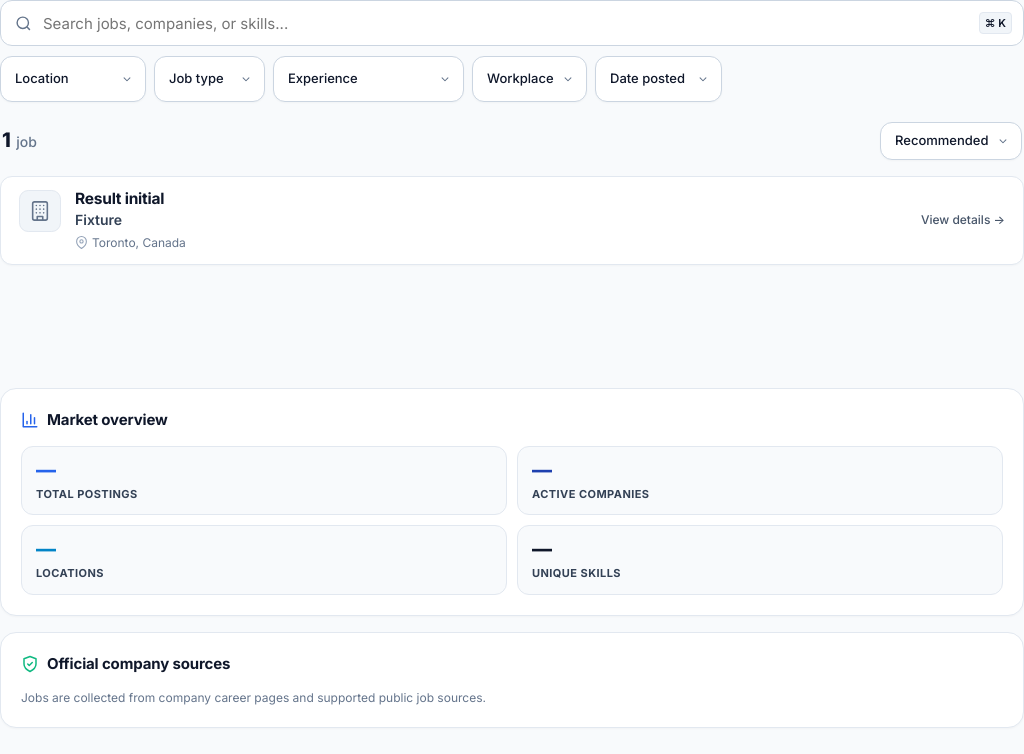
Test: rapid search with deliberately reordered responses › hides old cards during typing/debounce, allows more typing, and rejects late successes and errors
Check: the button with aria-label "View details for Result initial" is shown, box [75, 189, 164, 208]
Step 1. Type "old" into the search field → [512, 23], box [0, 0, 1023, 46]
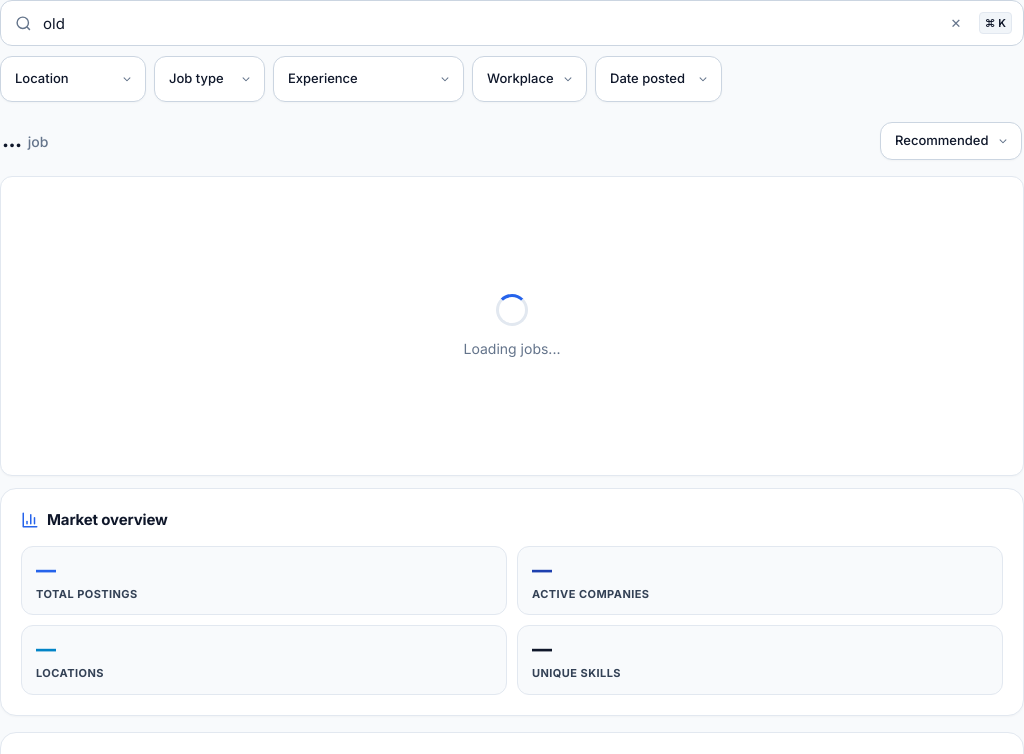
Check: the button "Result initial" is gone
Step 2. Replace the text in the search field with "new" → [512, 23], box [0, 0, 1023, 46]
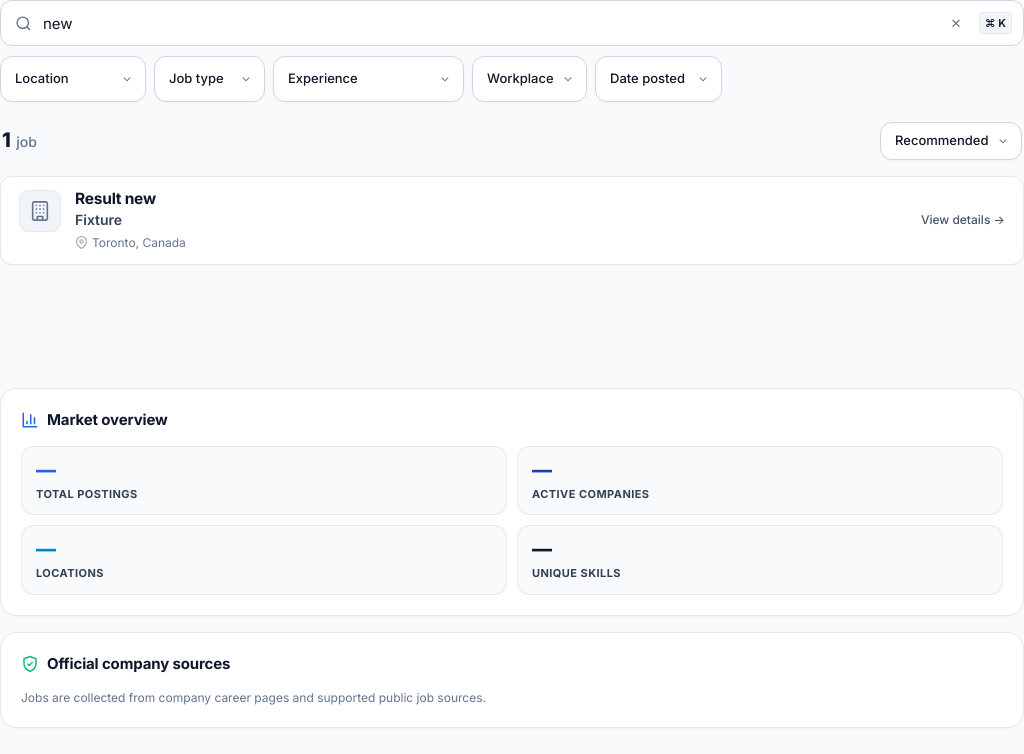
Check: the button "Result new" is shown, box [75, 189, 156, 208]
Step 3. Replace the text in the search field with "failure" → [512, 23], box [0, 0, 1023, 46]
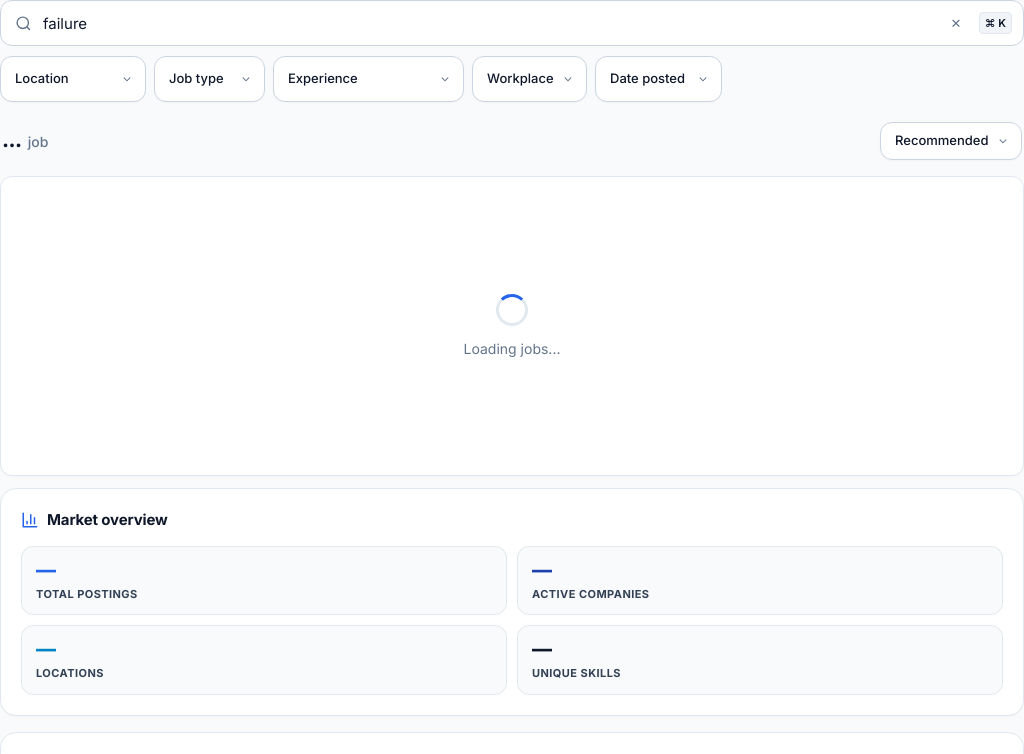
Step 4. Replace the text in the search field with "latest" → [512, 23], box [0, 0, 1023, 46]
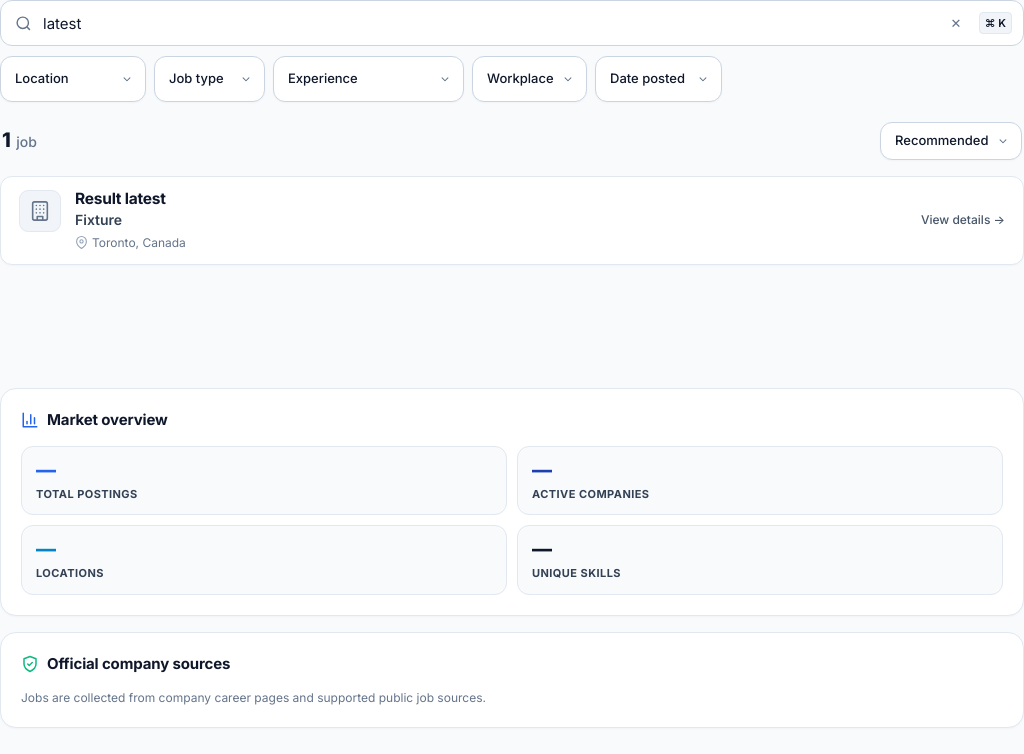
Check: the button "Result latest" is shown, box [75, 189, 166, 208]
